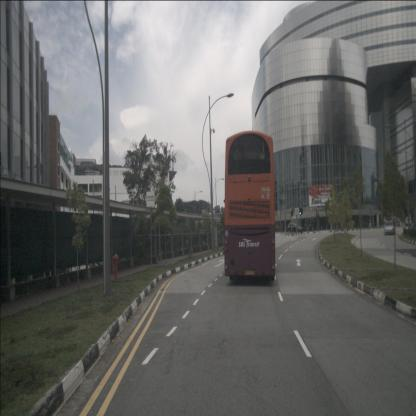vehicle-bus-rigid: (224, 130, 276, 283)
vehicle-car: (286, 222, 303, 233), (384, 222, 395, 235), (405, 216, 412, 226)
